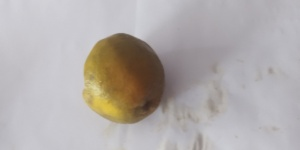BAD: (83, 29, 164, 128)
